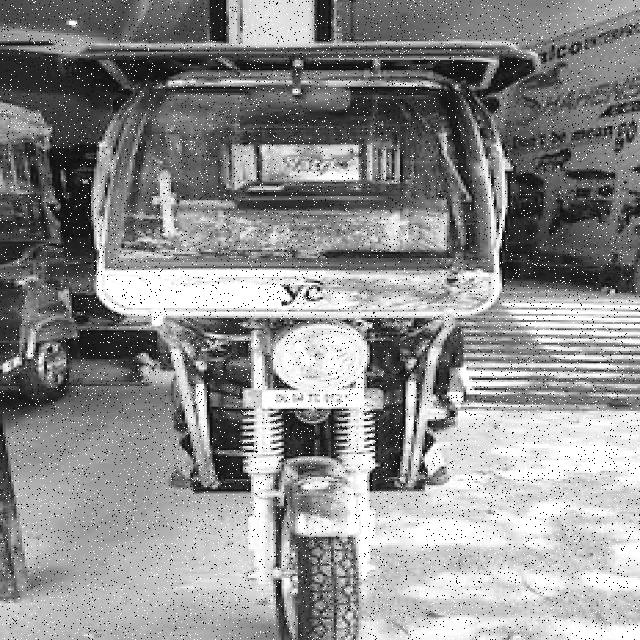Toto: (64, 37, 533, 640)
